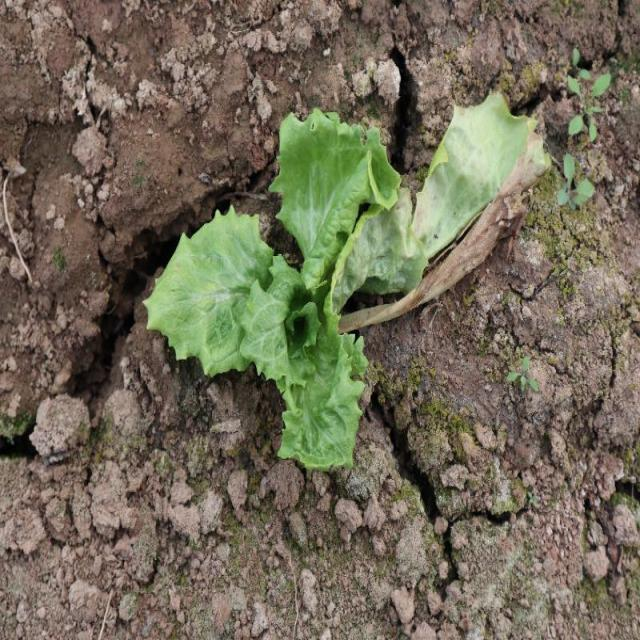crop: (146, 104, 430, 472)
